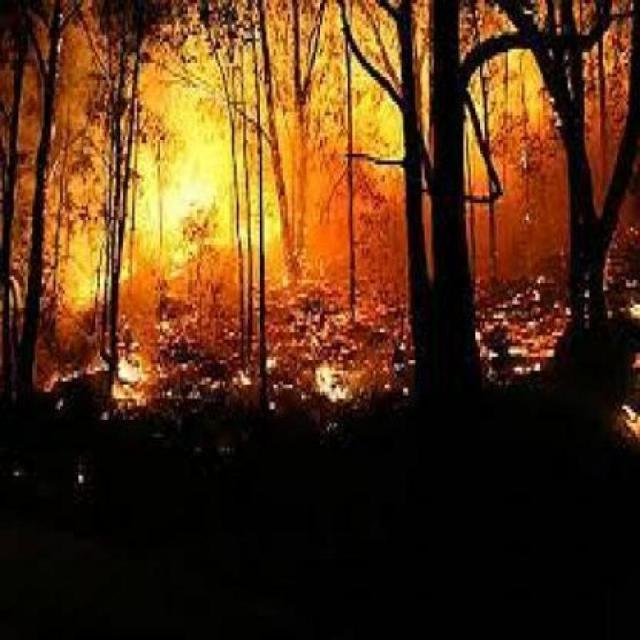Fire: (5, 120, 640, 434)
